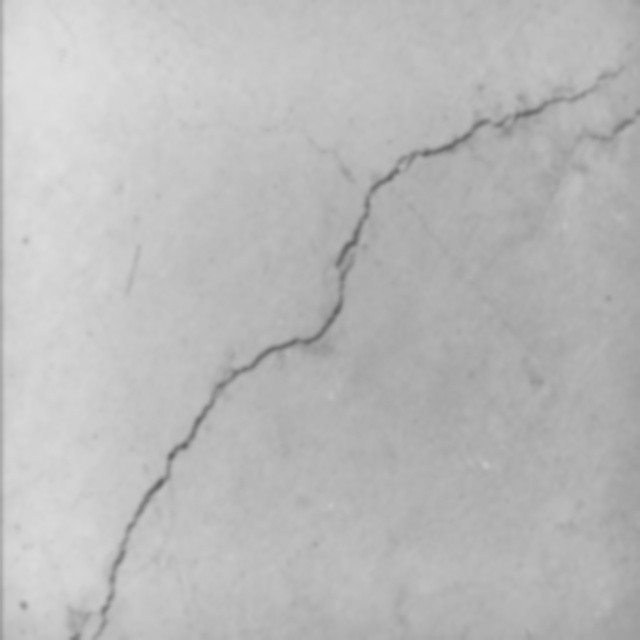SurfaceCrack: (1, 4, 640, 640)
